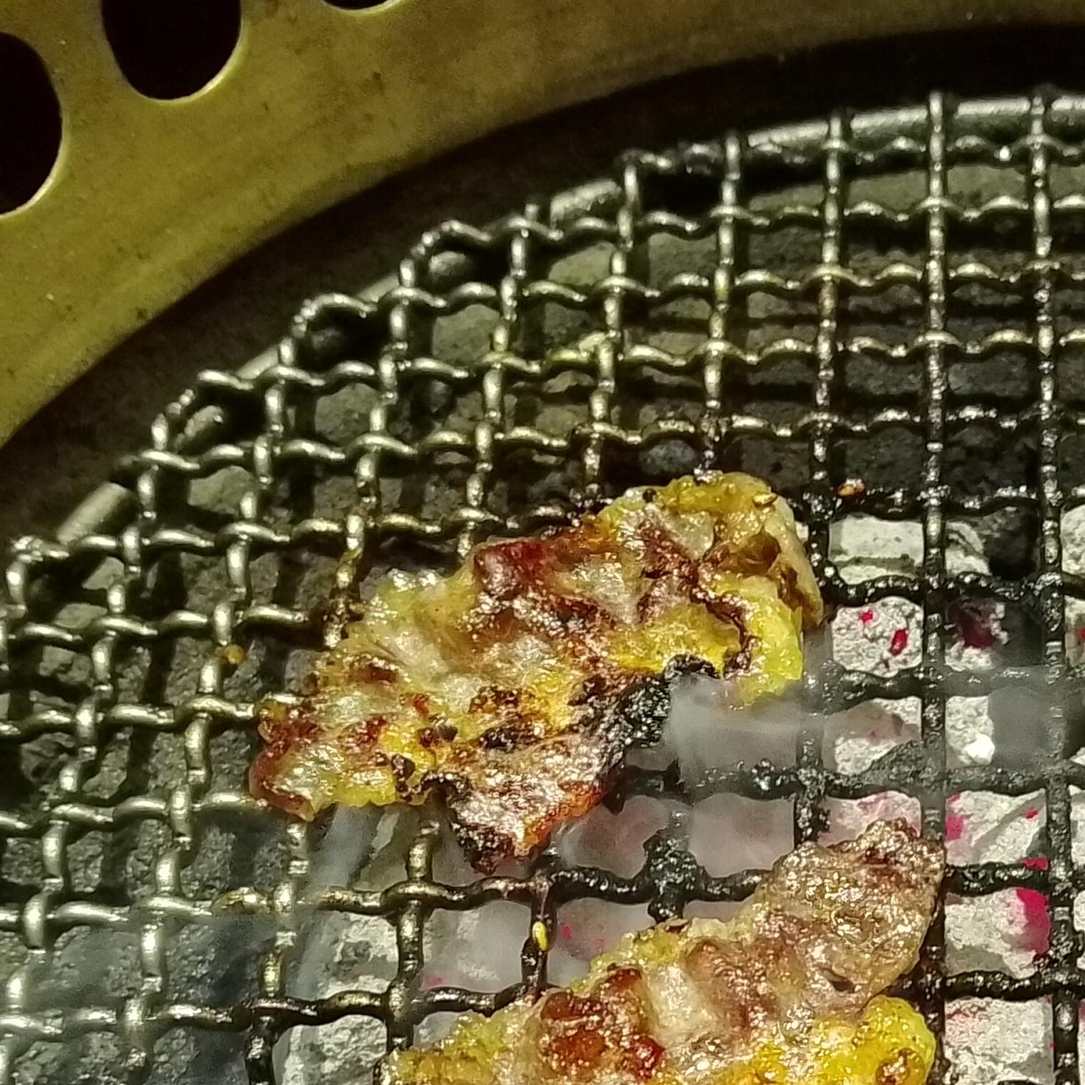Overcooked: (247, 474, 827, 879)
Well-Cooked: (387, 806, 946, 1084)
